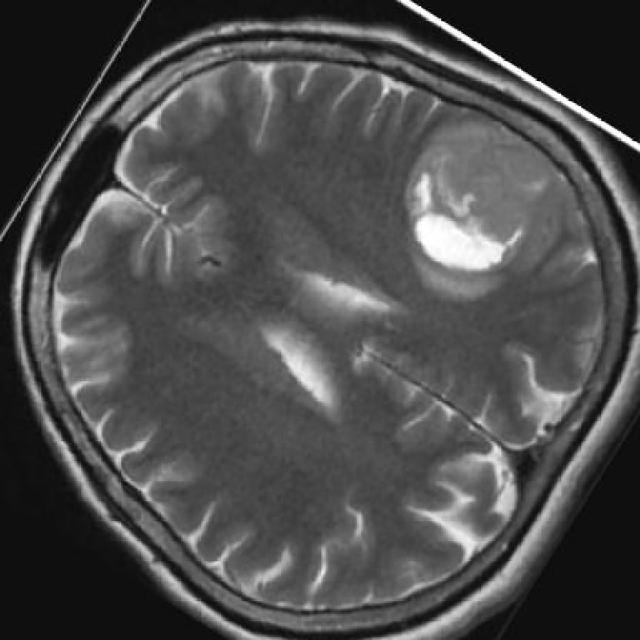Brain-Tumor: (397, 93, 568, 289)
